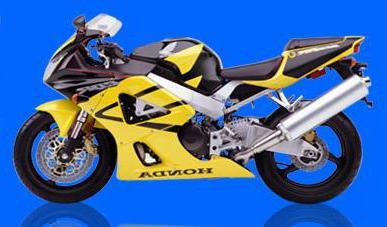motorcycle: (5, 2, 378, 214)
